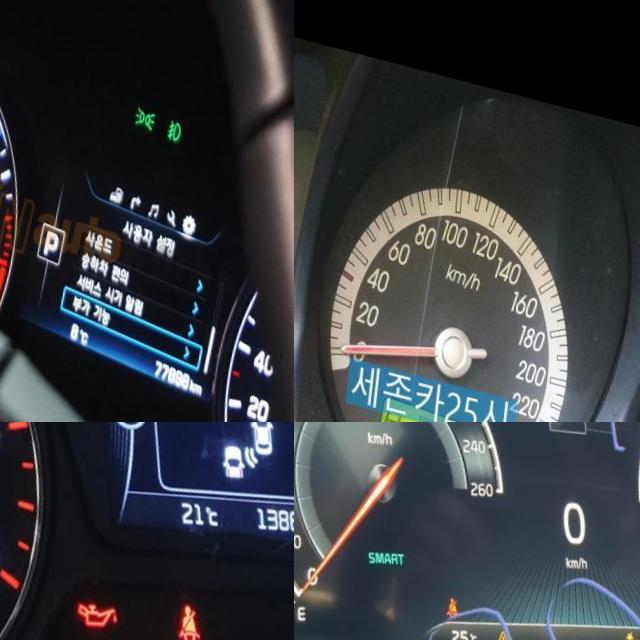Central Warning lamp: (505, 614, 524, 637)
FrontFogLight: (171, 96, 186, 121)
SideLamp: (138, 85, 160, 111)
